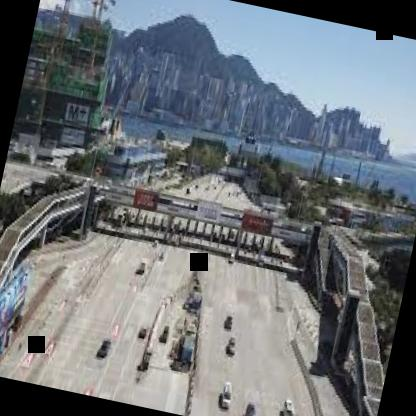car: (208, 372, 236, 414), (274, 386, 302, 416), (92, 335, 118, 365), (132, 251, 150, 289), (241, 391, 266, 416), (218, 308, 238, 339), (220, 331, 240, 359)
